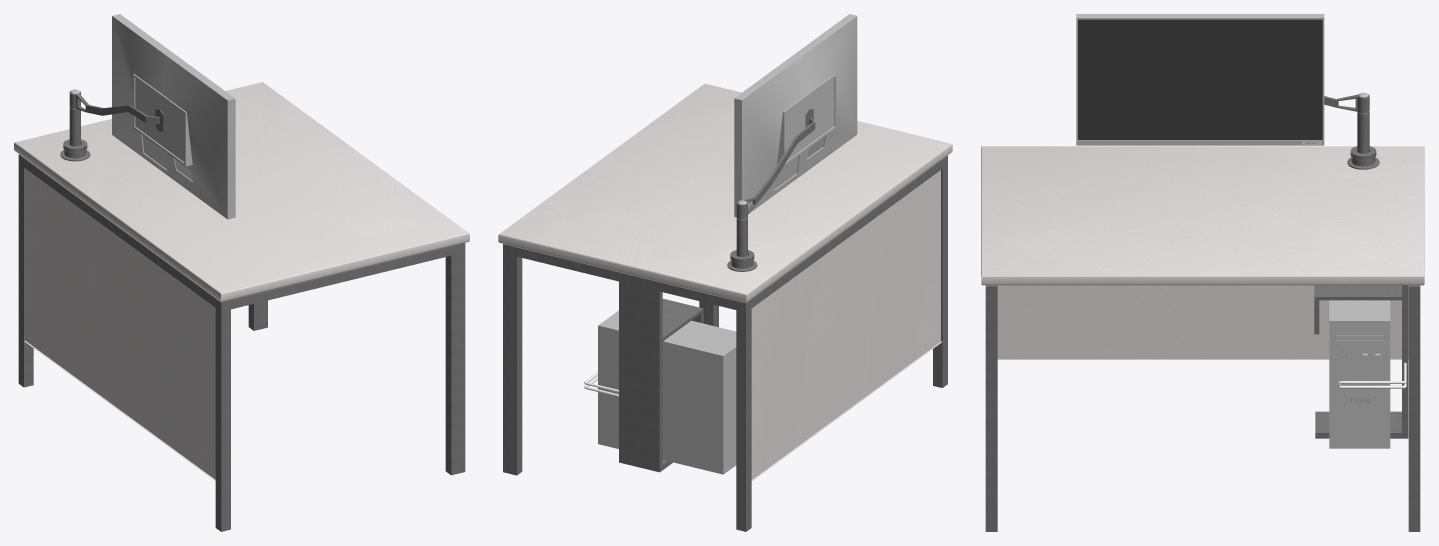
Rendered from 317 컴퓨터.fbx.
3 views of the same model, side by side, from view 1: azimuth 30°, elevation 25°; view 2: azimuth 150°, elevation 25°; view 3: azimuth 270°, elevation 25° (orthographic). The views are drawn at different scales.
Visible parts, largest first — view 1: 좌측컴터; view 2: 좌측컴터; view 3: 좌측컴터.
Part boxes in pixels (<box>): 좌측컴터: <box>14,14,469,531</box>; 좌측컴터: <box>498,14,952,531</box>; 좌측컴터: <box>981,14,1424,531</box>.
Size of the model in its own units: 127 by 190 by 183.
